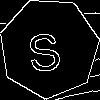S: (24, 23, 63, 74)
